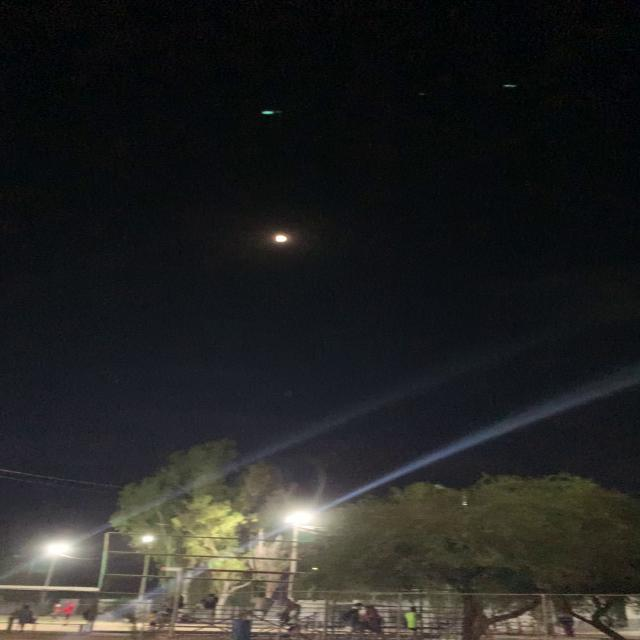moon: (272, 228, 294, 252)
